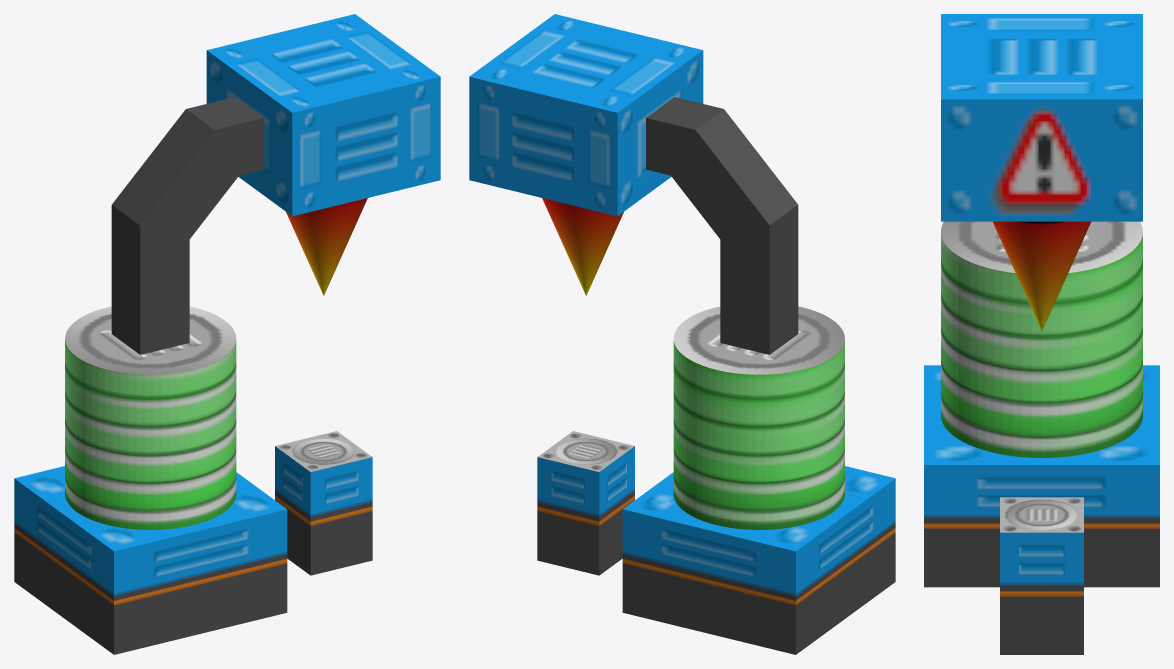
File: energy_alt.obj
3 views of the same model, side by side, from view 1: azimuth 30°, elevation 25°; view 2: azimuth 150°, elevation 25°; view 3: azimuth 270°, elevation 25° (orthographic). The views are drawn at different scales.
Visible parts, largest first — view 1: ColobotMesh_1_ColobotMesh_, Bateria_ColobotMesh_.001, Elektroda_ColobotMesh_.002; view 2: ColobotMesh_1_ColobotMesh_, Bateria_ColobotMesh_.001, Elektroda_ColobotMesh_.002; view 3: ColobotMesh_1_ColobotMesh_, Bateria_ColobotMesh_.001, Elektroda_ColobotMesh_.002.
Part boxes in pixels (<box>): ColobotMesh_1_ColobotMesh_: <box>14,14,440,654</box>; Bateria_ColobotMesh_.001: <box>65,306,236,529</box>; Elektroda_ColobotMesh_.002: <box>286,198,367,295</box>; ColobotMesh_1_ColobotMesh_: <box>469,14,895,654</box>; Bateria_ColobotMesh_.001: <box>673,306,844,529</box>; Elektroda_ColobotMesh_.002: <box>542,198,623,295</box>; ColobotMesh_1_ColobotMesh_: <box>924,14,1159,654</box>; Bateria_ColobotMesh_.001: <box>941,221,1142,457</box>; Elektroda_ColobotMesh_.002: <box>993,221,1090,330</box>.
Size of the model in its own units: 13.5 by 19 by 7.
